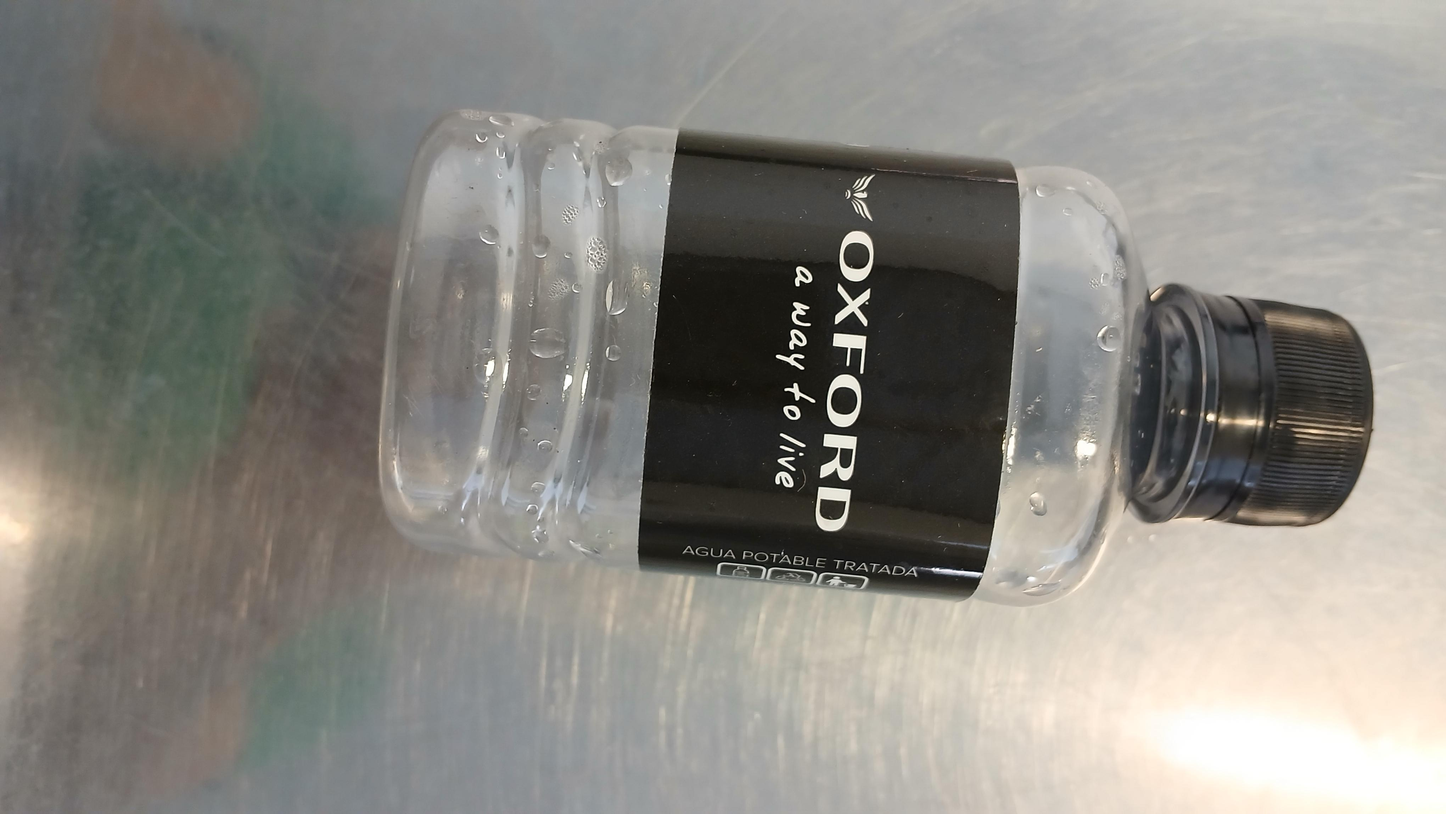Plastico: (378, 104, 1374, 607)
